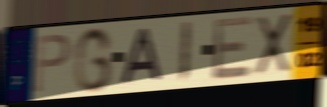A: (119, 26, 164, 87)
E: (211, 13, 254, 83)
G: (72, 25, 114, 94)
I: (176, 19, 194, 85)
P: (31, 32, 72, 95)
X: (254, 12, 294, 79)
